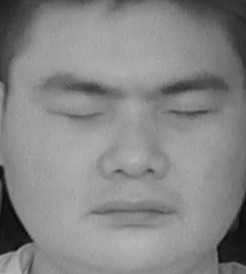blink: (162, 95, 217, 128), (55, 98, 105, 131)
mouth: (91, 188, 180, 233)
